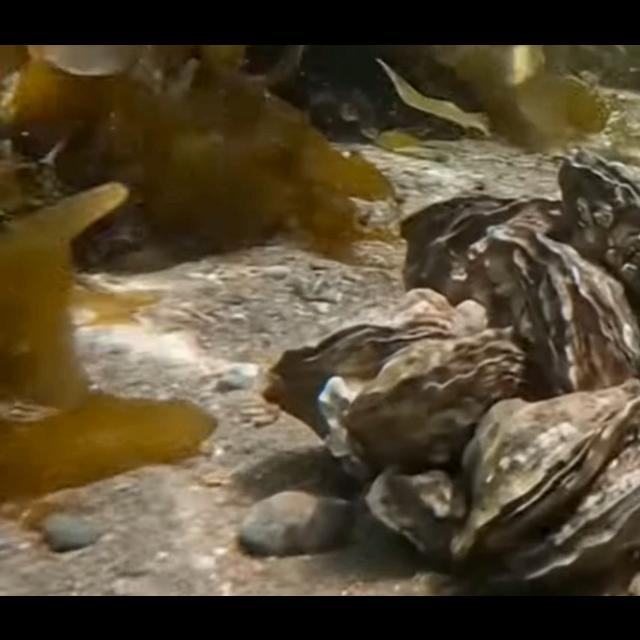Oyster-Closed: (343, 327, 525, 478), (512, 230, 640, 392)
Oyster-Open: (454, 380, 640, 560), (268, 306, 454, 436), (400, 195, 562, 312), (512, 440, 640, 580), (556, 146, 640, 322)
